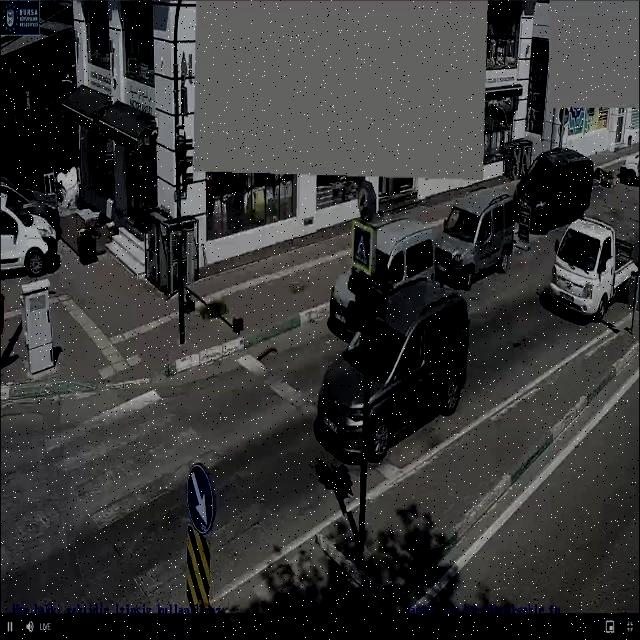Car: (306, 292, 469, 459), (437, 185, 524, 282), (518, 144, 598, 220)
Truck: (541, 238, 628, 318)
Van: (313, 220, 435, 331)
